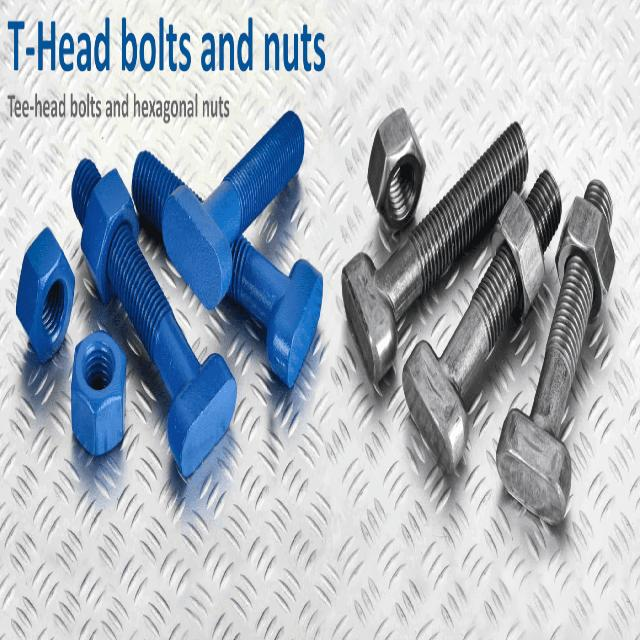Bolt: (72, 156, 239, 478), (341, 117, 531, 393), (131, 144, 326, 397), (402, 167, 562, 475), (494, 177, 614, 527), (162, 109, 308, 311)
Nut: (79, 168, 139, 306), (17, 226, 75, 364), (554, 198, 616, 323), (490, 189, 545, 325), (71, 331, 129, 459), (368, 109, 425, 235)
